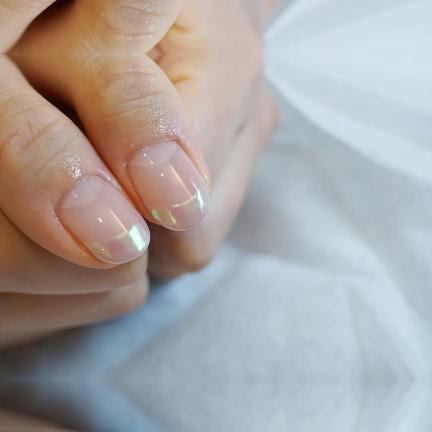Nail: (56, 174, 150, 264), (128, 140, 211, 230)
